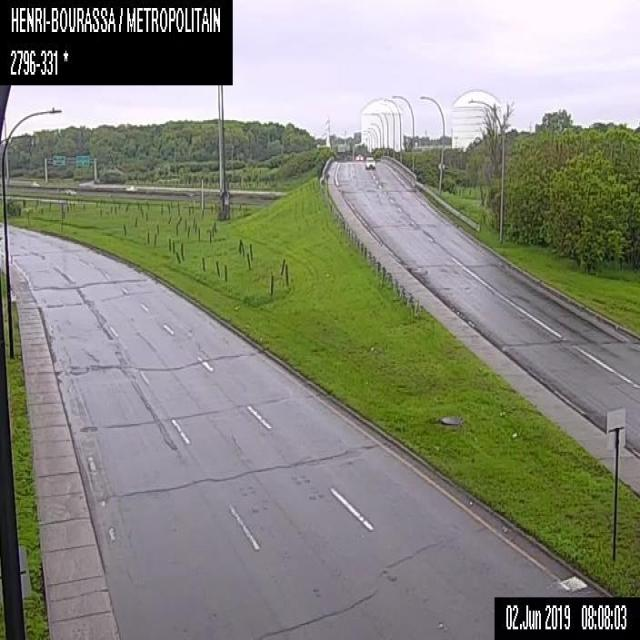vehicle: (365, 156, 375, 170), (124, 184, 136, 190), (66, 188, 76, 194), (354, 153, 362, 159)
